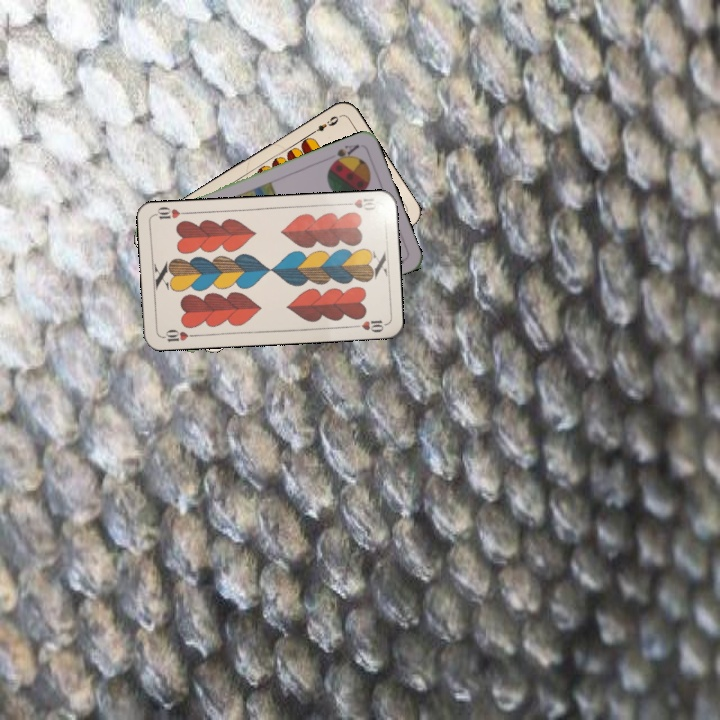E9: (306, 112, 341, 138)
H10: (158, 325, 199, 344), (340, 194, 379, 213)
SA: (327, 140, 362, 168)
